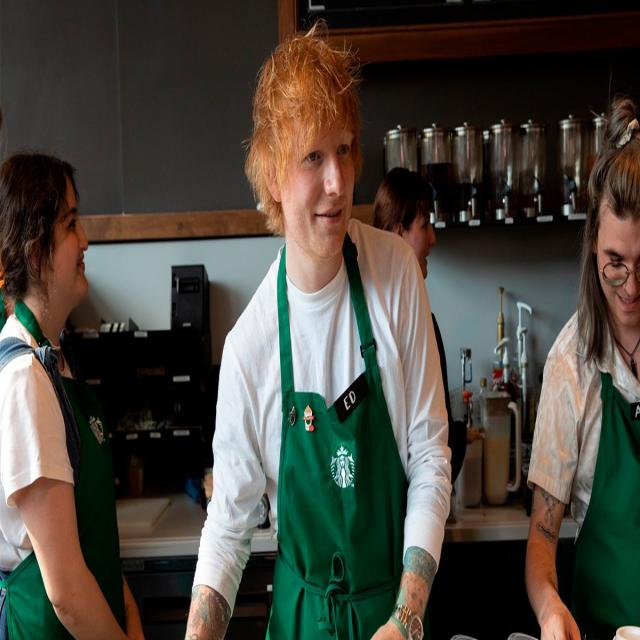starbucks: (326, 442, 358, 489)
